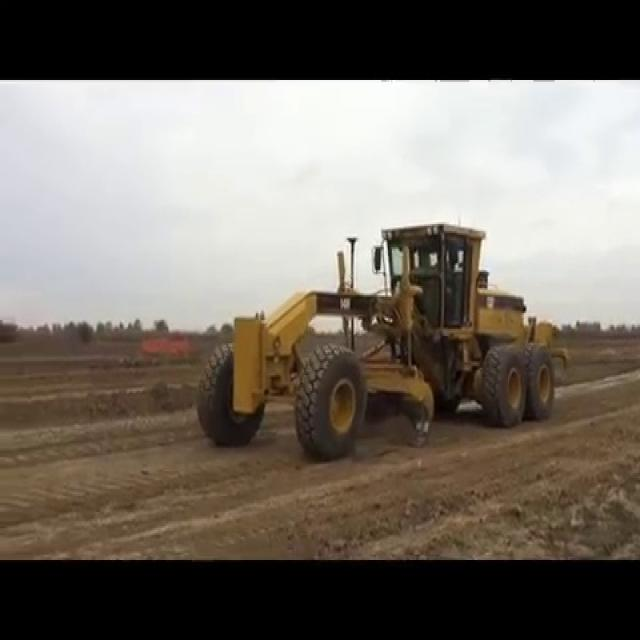buldozerpayloadergrader: (199, 226, 557, 450)
